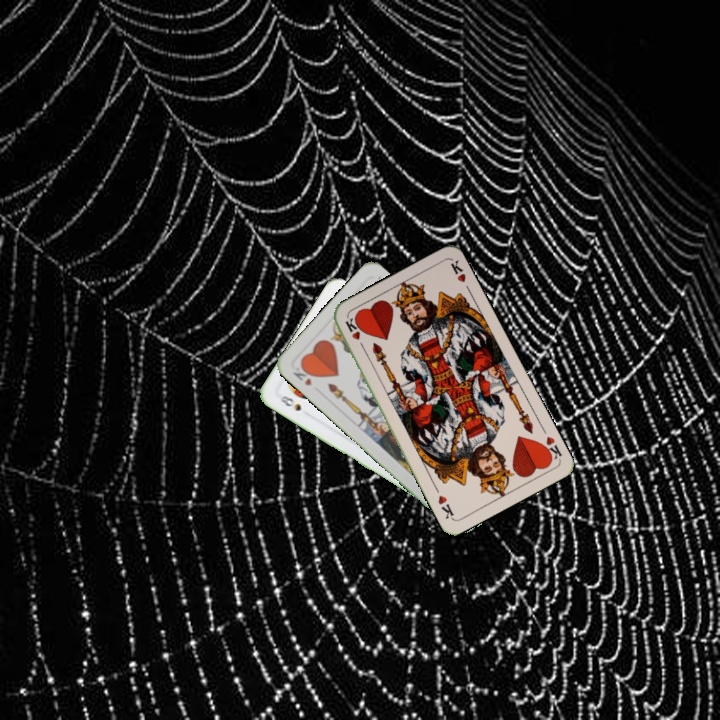HK: (341, 313, 368, 353), (537, 432, 565, 465), (289, 361, 317, 388)
S8: (273, 389, 304, 414)
